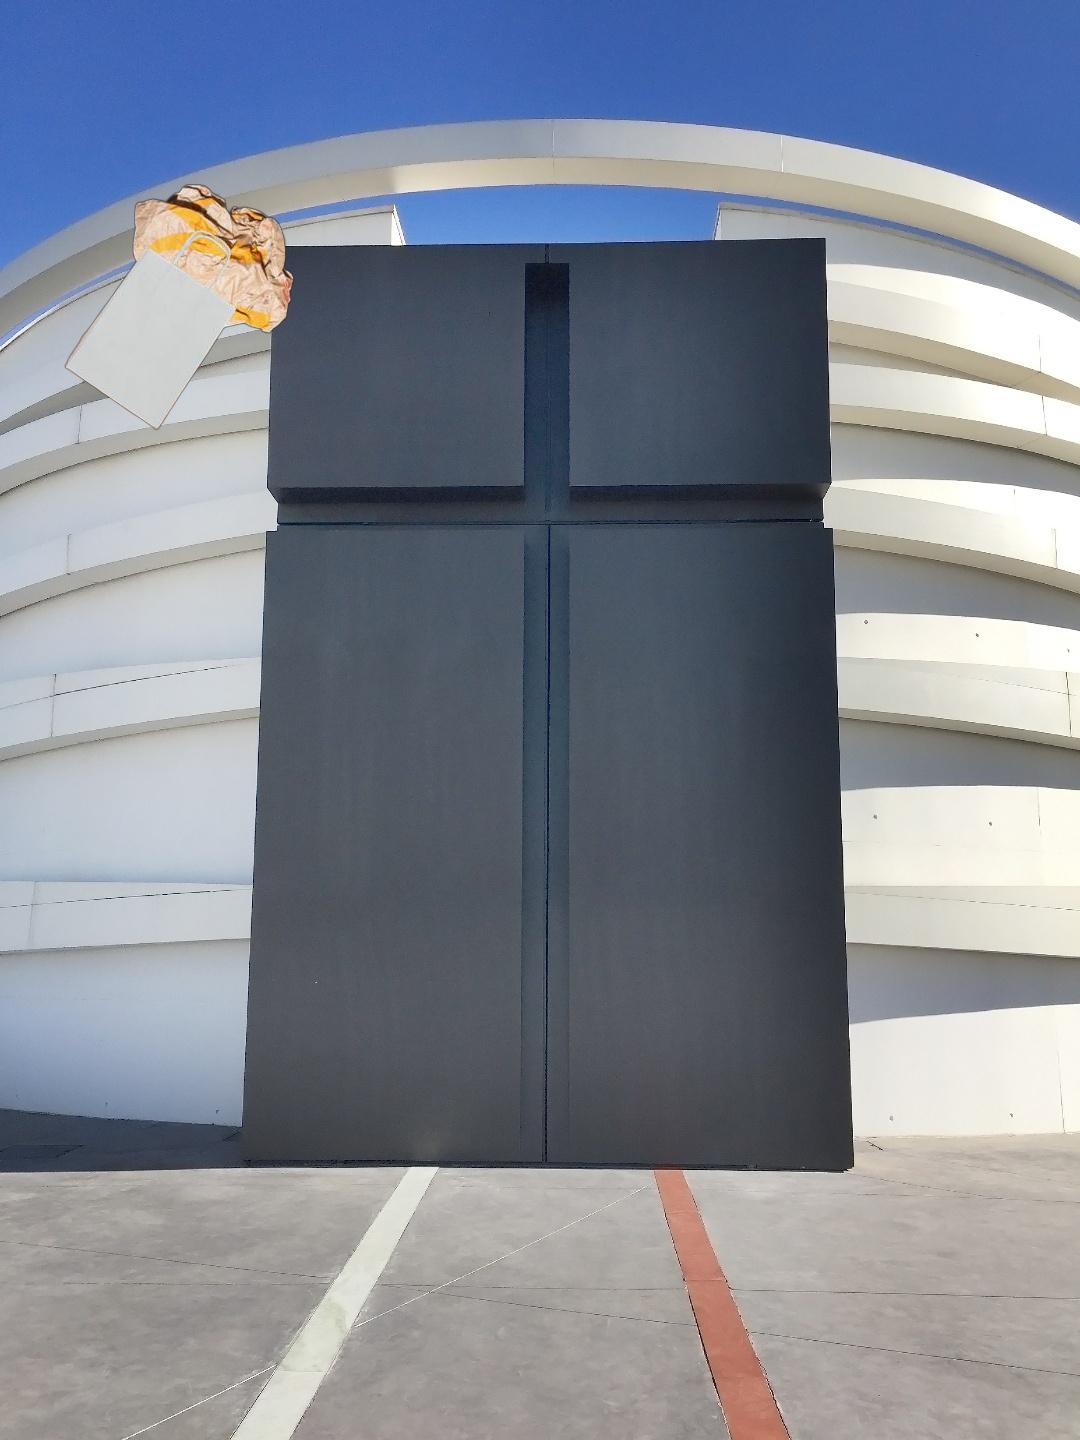paper-bag: (64, 181, 297, 432)
penholder: (1075, 749, 1080, 1440)
